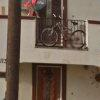Bicycle: (37, 11, 85, 48)
